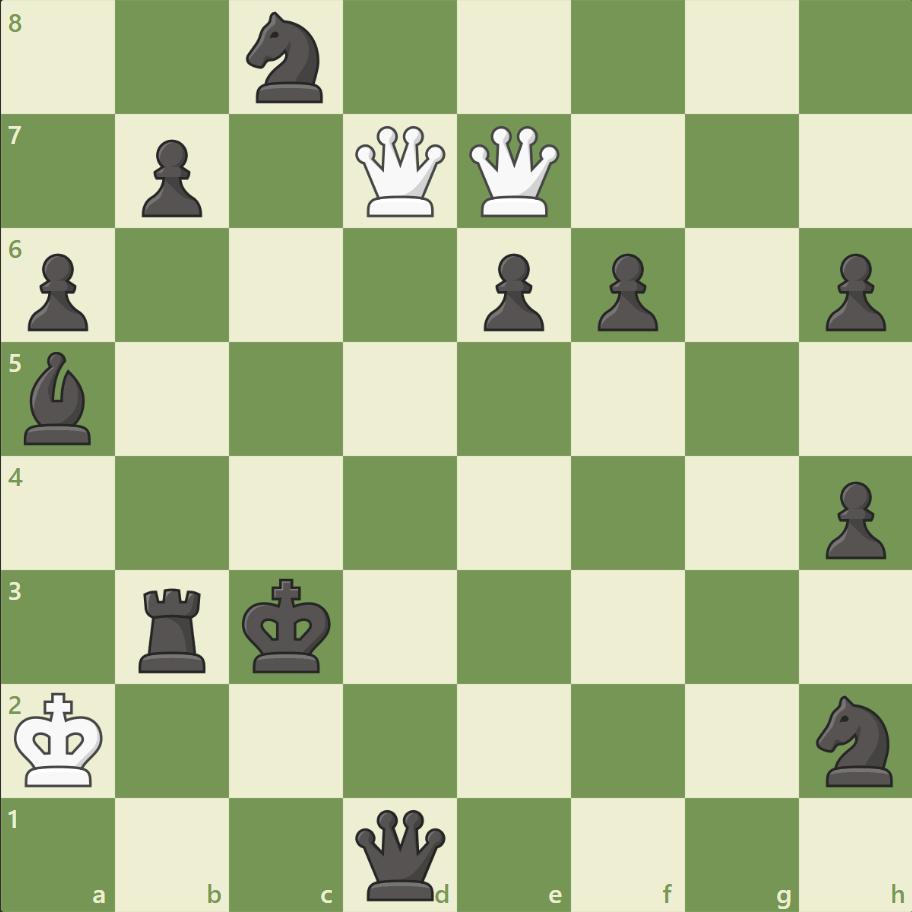K: (11, 685, 111, 793)
Q: (351, 122, 450, 222), (464, 122, 563, 222)
b: (17, 347, 101, 449)
k: (238, 571, 338, 679)
n: (238, 7, 335, 110), (806, 688, 903, 791)
p: (133, 132, 208, 223), (20, 246, 95, 337), (474, 246, 549, 337), (588, 246, 662, 337), (815, 246, 889, 337), (815, 473, 889, 564)
q: (351, 804, 450, 903)
r: (133, 579, 215, 676)
